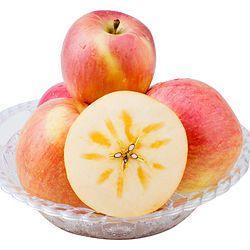apple: (154, 75, 242, 199), (59, 9, 155, 105), (15, 96, 85, 213)
